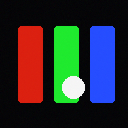2 circle: (62, 76, 84, 98)
